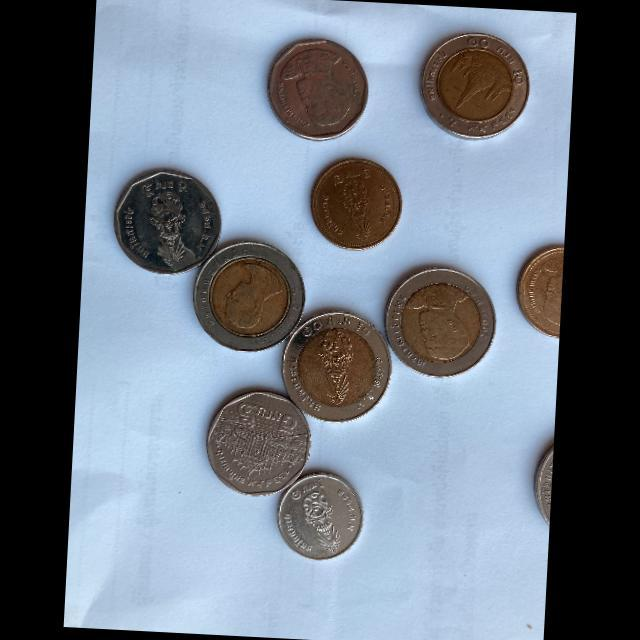1 Bath: (277, 471, 367, 564)
10 Bath: (384, 263, 500, 380), (193, 236, 307, 355), (416, 30, 534, 144), (283, 310, 393, 425), (534, 435, 557, 531)
2 Bath: (309, 156, 407, 254), (519, 241, 567, 340)
5 Bath: (113, 167, 226, 280), (204, 389, 312, 503), (267, 34, 372, 146)
